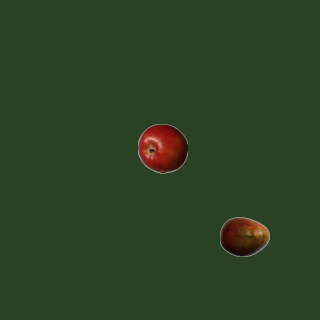Apple Braeburn: (137, 123, 187, 173)
Mango Red: (219, 211, 269, 261)
